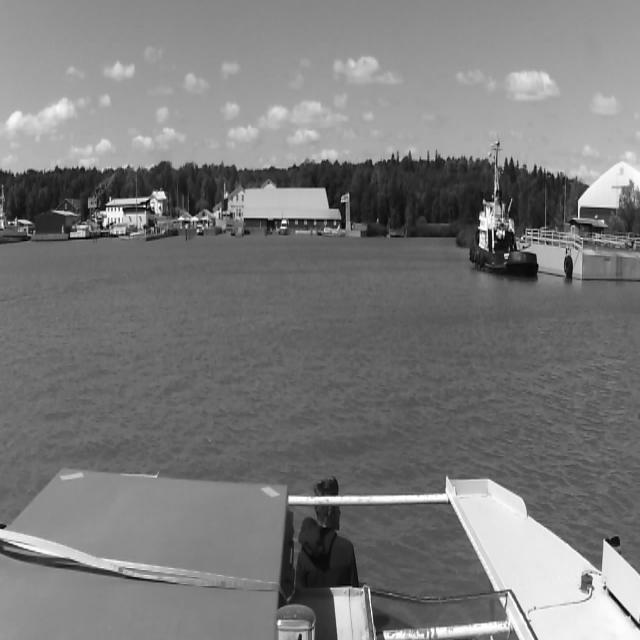ship: (469, 139, 544, 278), (321, 167, 345, 237), (0, 211, 28, 243), (280, 218, 289, 235)
